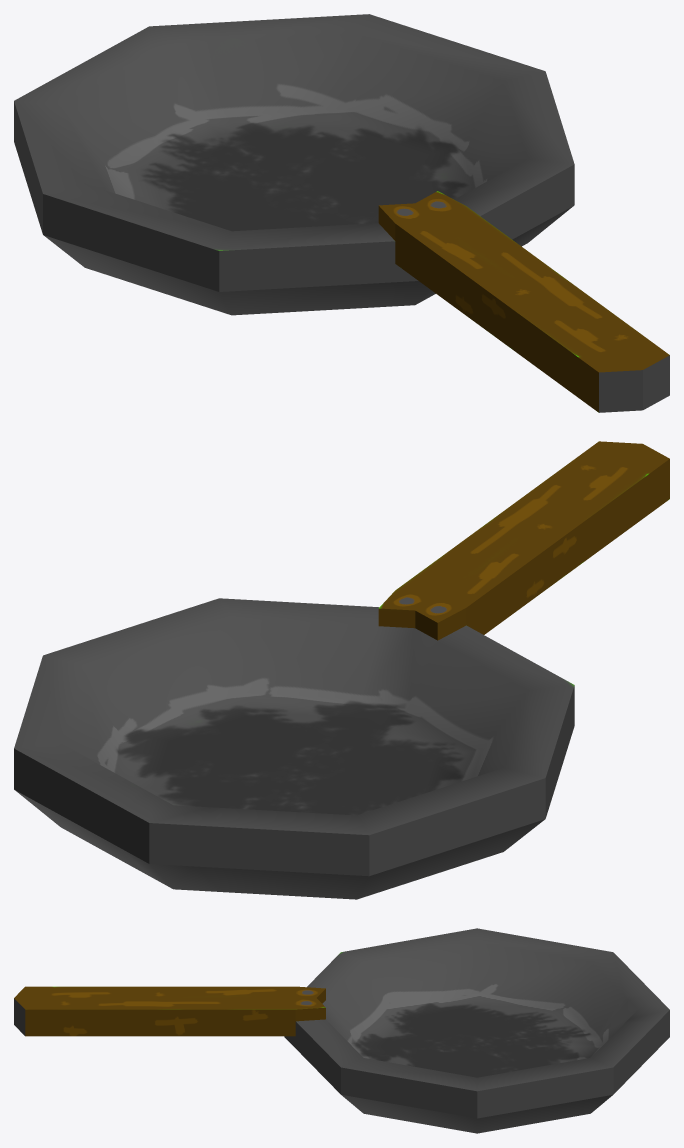
File: PanFBX.fbx
3 renders of one model, top to bottom at view 1: azimuth 30°, elevation 25°; view 2: azimuth 150°, elevation 25°; view 3: azimuth 270°, elevation 25°, orthographic. The views are drawn at different scales.
Parts seen in each view (by area): view 1: pCylinder1; view 2: pCylinder1; view 3: pCylinder1.
Boxes of the visible parts, x1=… form: pCylinder1: x1=14, y1=14, x2=669, y2=412; pCylinder1: x1=14, y1=441, x2=669, y2=899; pCylinder1: x1=14, y1=928, x2=669, y2=1133.
Bounding box in the file's own units: 180 × 34.91 × 307.
1 material, 1 textured.
